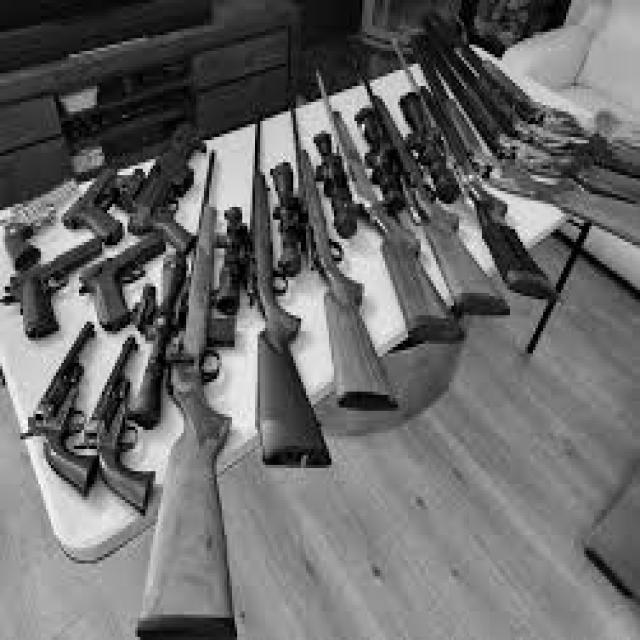gun: (413, 7, 640, 245), (140, 149, 238, 640), (388, 32, 555, 301), (273, 74, 400, 424), (354, 56, 514, 322), (222, 107, 332, 470), (76, 334, 156, 518), (20, 322, 103, 496), (122, 120, 211, 256), (2, 236, 106, 337), (82, 233, 170, 329), (62, 156, 126, 245)
